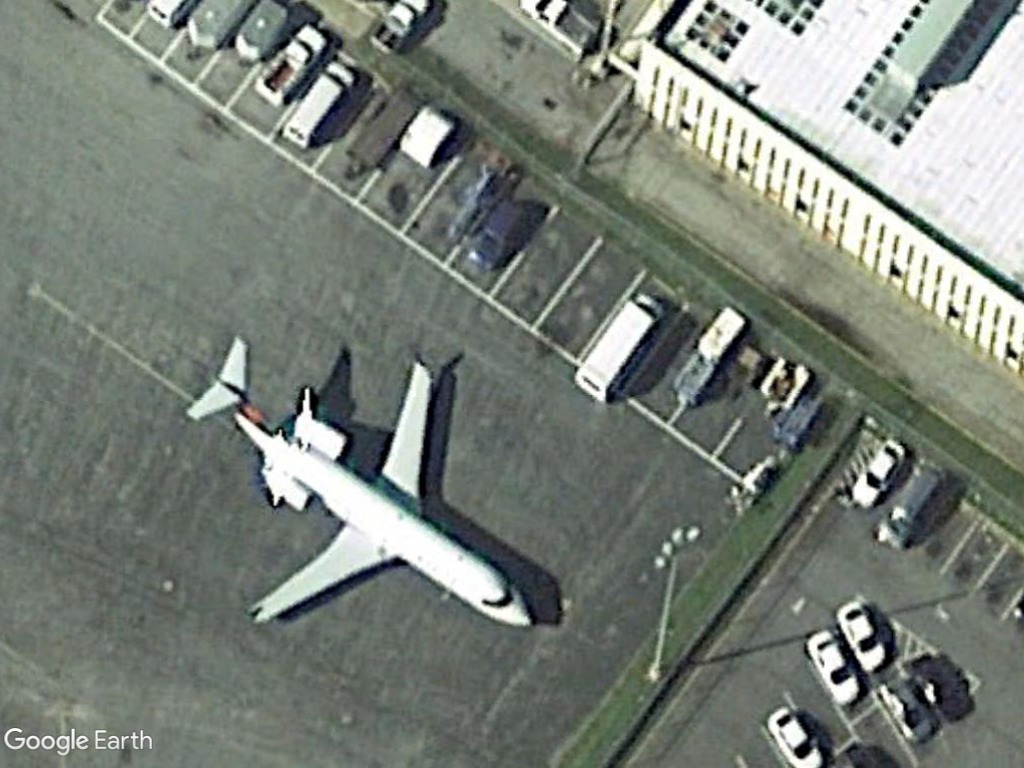car: (846, 435, 911, 513), (801, 627, 861, 708), (832, 599, 887, 672), (762, 705, 822, 768)
chartered: (167, 326, 536, 639)
truck: (572, 287, 667, 405)
van: (280, 59, 353, 150)
